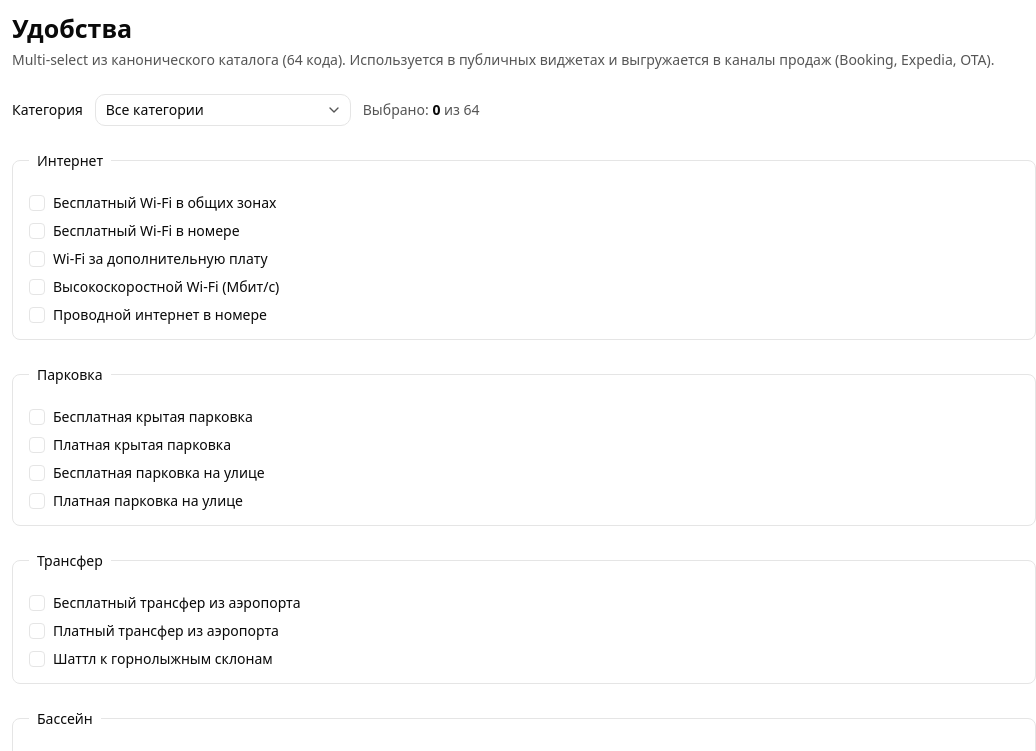
Test case: <AmenitiesStep> — toggle › [Tg1] checking → counter increments to 1
The image size is (1036, 751).
Click the checkbox named "Бесплатный Wi-Fi в общих зонах" next to "Бесплатный Wi-Fi в общих зонах": (37, 202) 29,194 -> 45,210
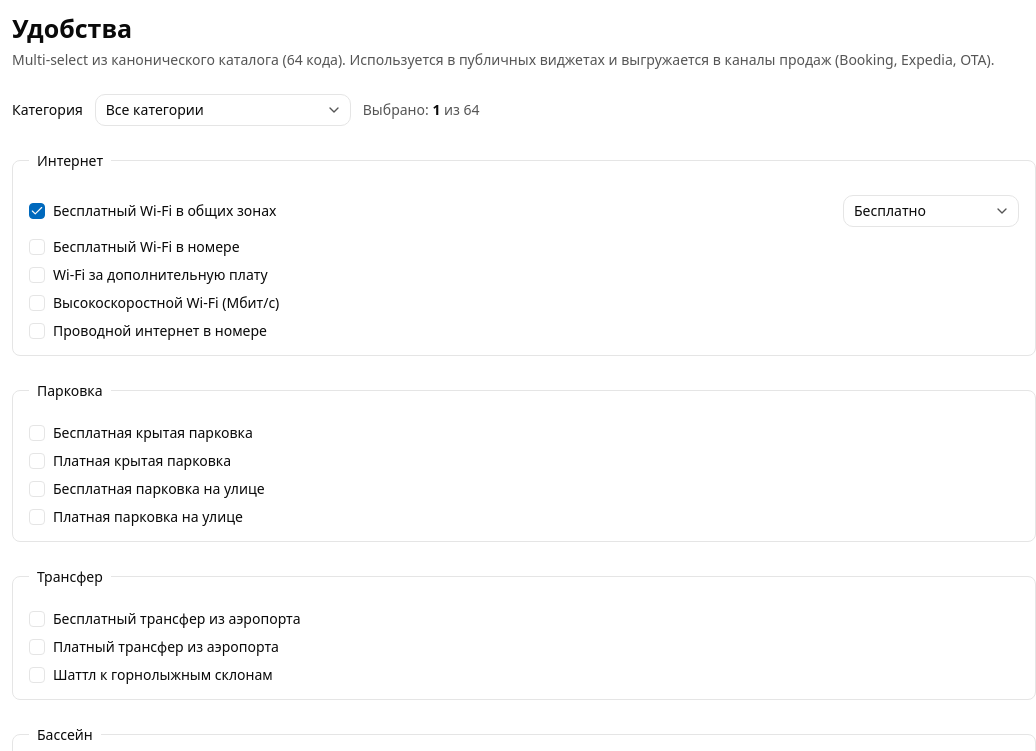
Check: the text "1" is shown, box 432,100 -> 440,119
